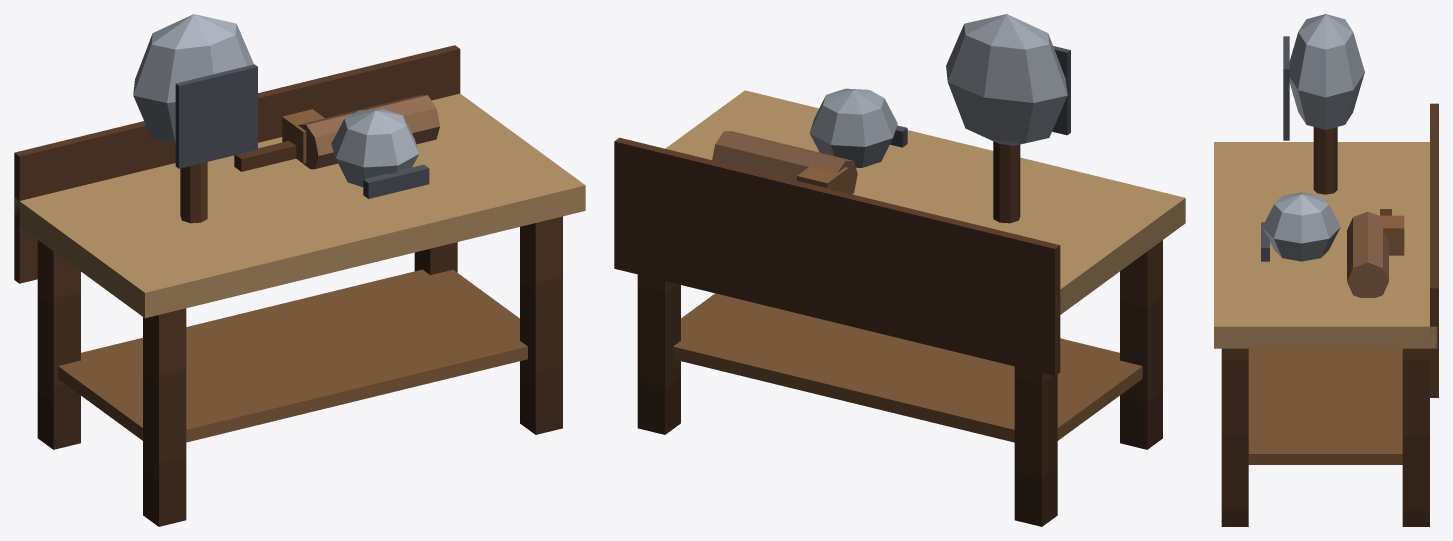
The model's file is armor_workbench.glb.
3 views of the same model, side by side, from view 1: azimuth 30°, elevation 25°; view 2: azimuth 150°, elevation 25°; view 3: azimuth 270°, elevation 25° (orthographic). The views are drawn at different scales.
Size of the model in its own units: 1.45 by 1.4 by 0.745.
1 material, 1 textured.
